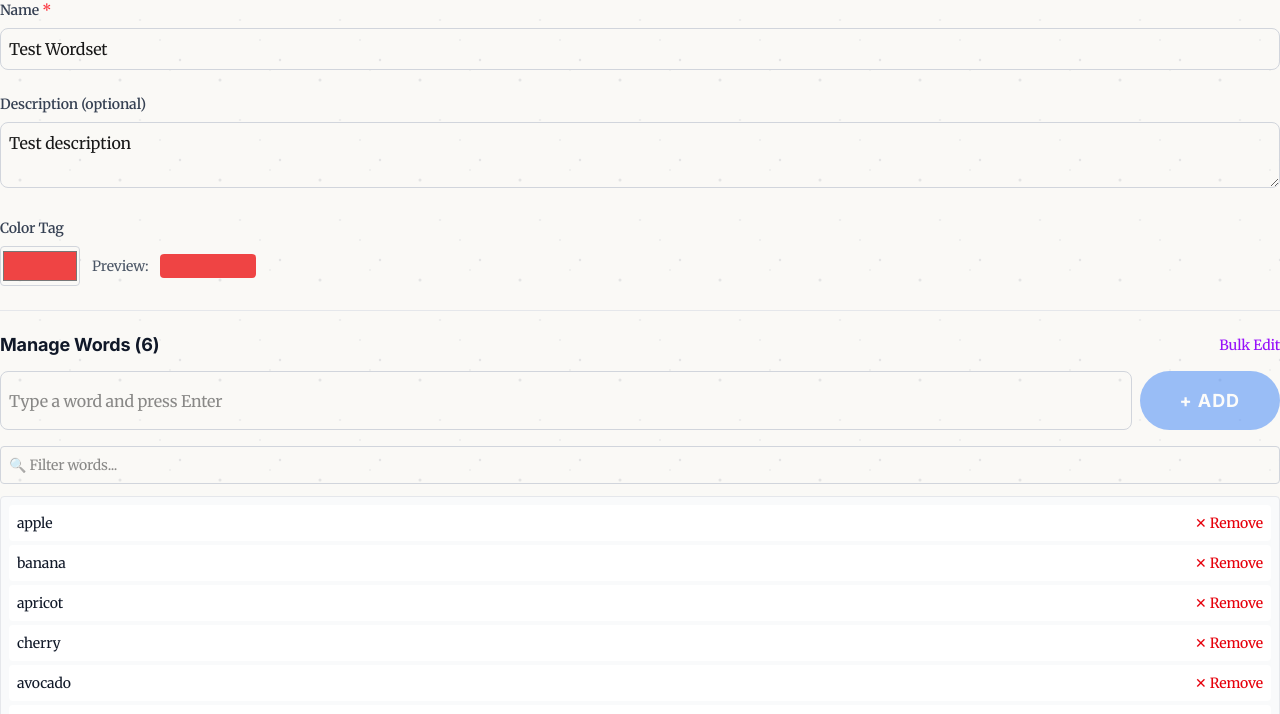
Test: WordsetEditor › word search/filter › filters words when typing in search
Step 1. Type "ap" into the field with placeholder "🔍 Filter words..." → (640, 465), box [0,446,1279,484]
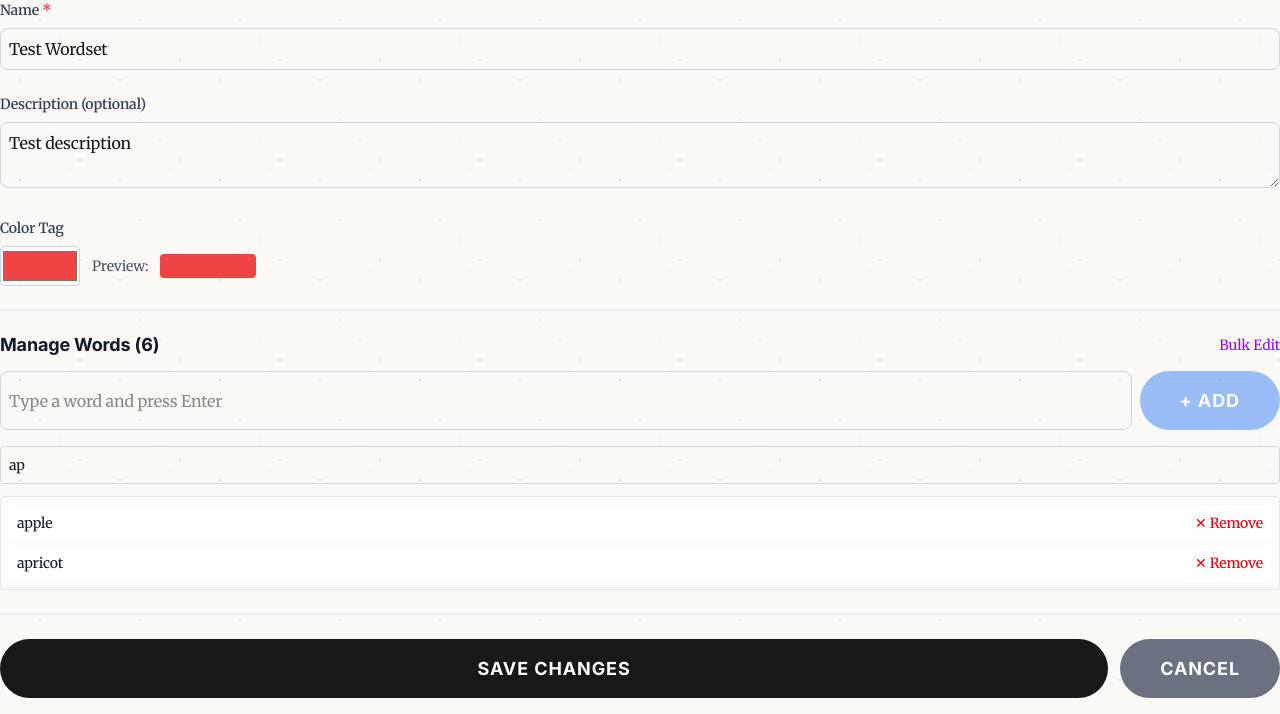
Expected: the text "apple" is shown, [17,513,52,533]
Now the text "banana" is gone
Now the text "cherry" is gone
